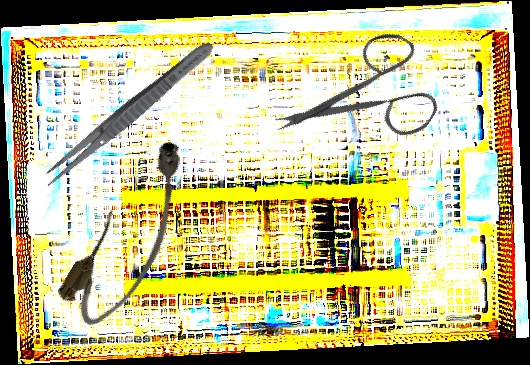Cannula: (51, 131, 213, 337)
Dressing Forceps: (38, 35, 219, 193)
Iris Scissors: (270, 3, 461, 198)
